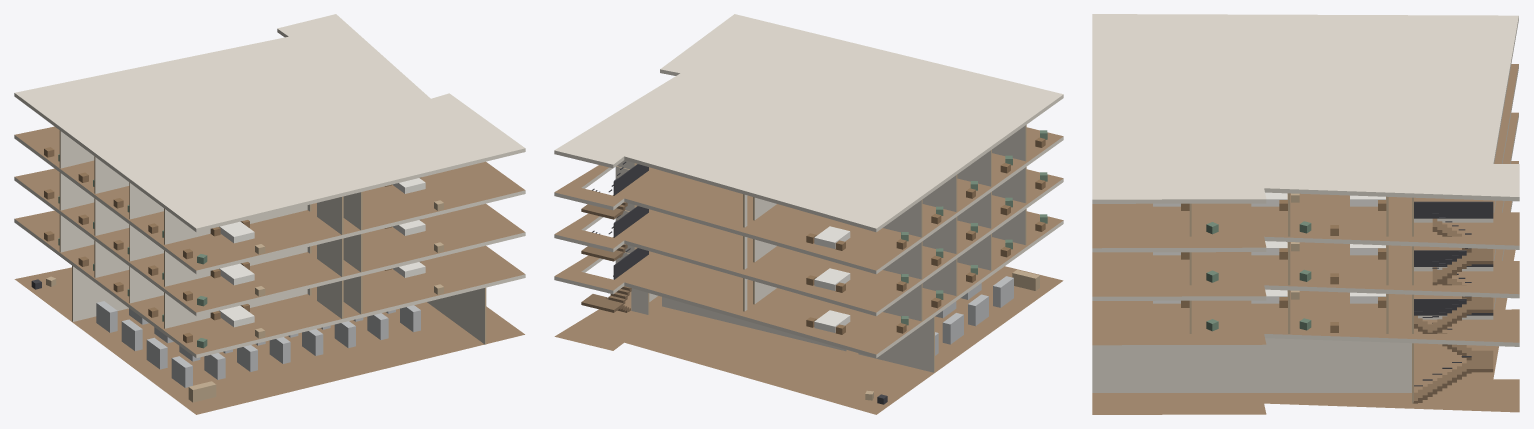
File: interior.glb
The picture shows the model from 3 angles, left to right: view 1: azimuth 30°, elevation 25°; view 2: azimuth 150°, elevation 25°; view 3: azimuth 270°, elevation 25°; orthographic projection. The views are drawn at different scales.
Parts seen in each view (by area): view 1: slabs, partitions, coarse-s0, coarse-s3, coarse-s2, coarse-s1; view 2: slabs, partitions, stair, coarse-s0, coarse-s3, coarse-s1, coarse-s2; view 3: slabs, partitions, stair, coarse-s2, coarse-s3, coarse-s1.
Boxes of the visible parts, x1=… form: slabs: x1=14, y1=14, x2=525, y2=414; partitions: x1=59, y1=130, x2=486, y2=344; coarse-s0: x1=31, y1=276, x2=420, y2=402; coarse-s3: x1=44, y1=147, x2=443, y2=264; coarse-s2: x1=44, y1=189, x2=443, y2=306; coarse-s1: x1=44, y1=231, x2=443, y2=348; slabs: x1=554, y1=14, x2=1063, y2=414; partitions: x1=615, y1=125, x2=1026, y2=372; stair: x1=581, y1=161, x2=648, y2=312; coarse-s0: x1=865, y1=270, x2=1039, y2=404; coarse-s3: x1=806, y1=130, x2=1047, y2=250; coarse-s1: x1=806, y1=214, x2=1047, y2=334; coarse-s2: x1=806, y1=172, x2=1047, y2=292; slabs: x1=1092, y1=14, x2=1519, y2=414; partitions: x1=1092, y1=193, x2=1413, y2=403; stair: x1=1413, y1=201, x2=1493, y2=403; coarse-s2: x1=1153, y1=241, x2=1386, y2=284; coarse-s3: x1=1153, y1=192, x2=1386, y2=235; coarse-s1: x1=1153, y1=289, x2=1386, y2=332.
Bounding box in the file's own units: 24.24 × 13.13 × 23.59.
